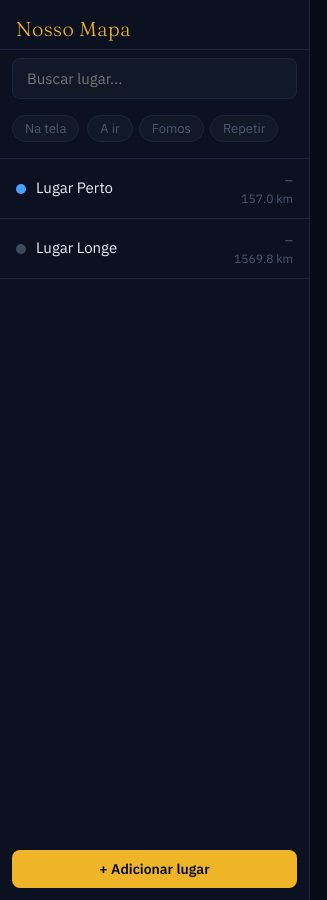
ListPanel › filters places by search query
Type "Perto" into the field with placeholder "Buscar lugar...".
click(154, 78); type("Perto")  # box [12, 58, 297, 99]
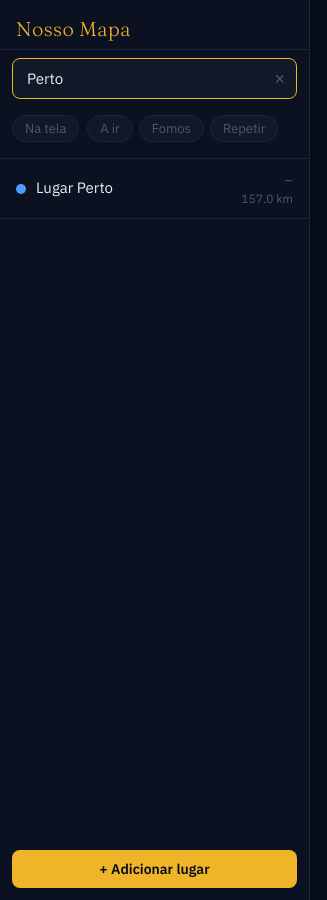
Expected: the text "Lugar Perto" is shown, [36, 178, 113, 197]
Expected: the button "Lugar Longe" is gone
